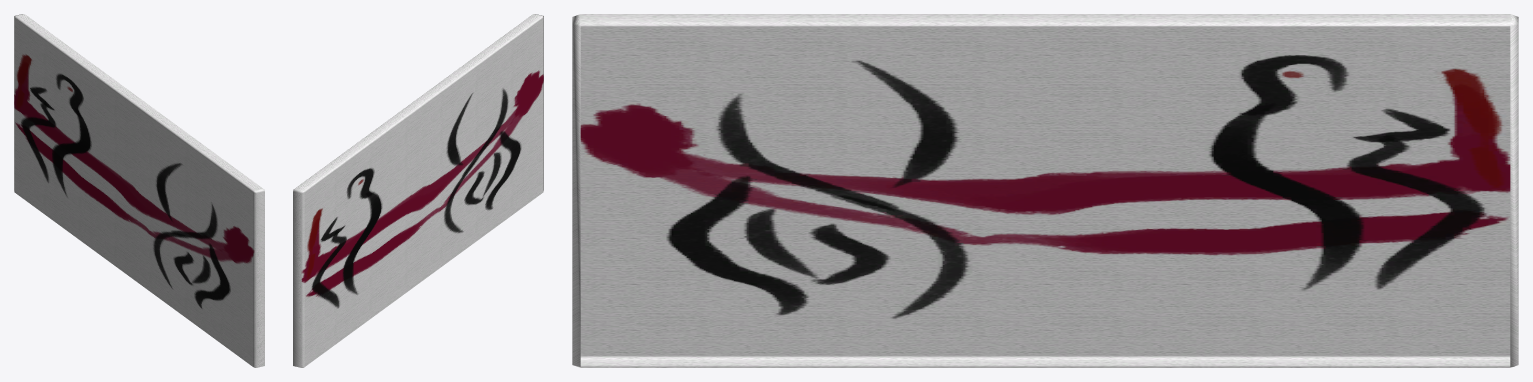
The model's file is SM_painting_2.fbx.
3 views of the same model, side by side, from view 1: azimuth 30°, elevation 25°; view 2: azimuth 150°, elevation 25°; view 3: azimuth 270°, elevation 25° (orthographic). The views are drawn at different scales.
Visible parts, largest first — view 1: pCube2; view 2: pCube2; view 3: pCube2.
Boxes of the visible parts, <box> form: pCube2: <box>14,14,264,367</box>; pCube2: <box>293,14,543,367</box>; pCube2: <box>572,14,1518,367</box>.
Bounding box in the file's own units: 0.1094 × 1.59 × 3.94.
